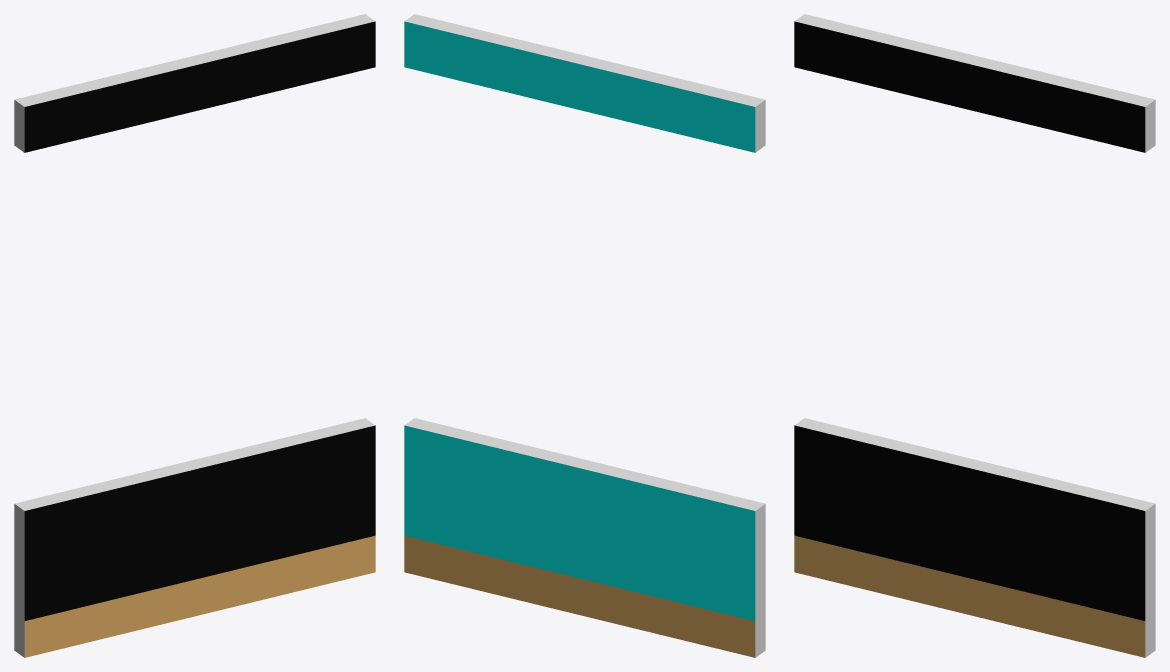
The model's file is wall_window.dae.
The picture shows the model from 3 angles, left to right: view 1: azimuth 30°, elevation 25°; view 2: azimuth 150°, elevation 25°; view 3: azimuth 330°, elevation 25°; orthographic projection.
Parts seen in each view (by area): view 1: Cube; view 2: Cube; view 3: Cube.
Part boxes in pixels (x1=…): Cube: x1=14, y1=14, x2=375, y2=657; Cube: x1=404, y1=14, x2=765, y2=657; Cube: x1=794, y1=14, x2=1155, y2=657.
Size of the model in its own units: 2 by 0.1 by 3.
